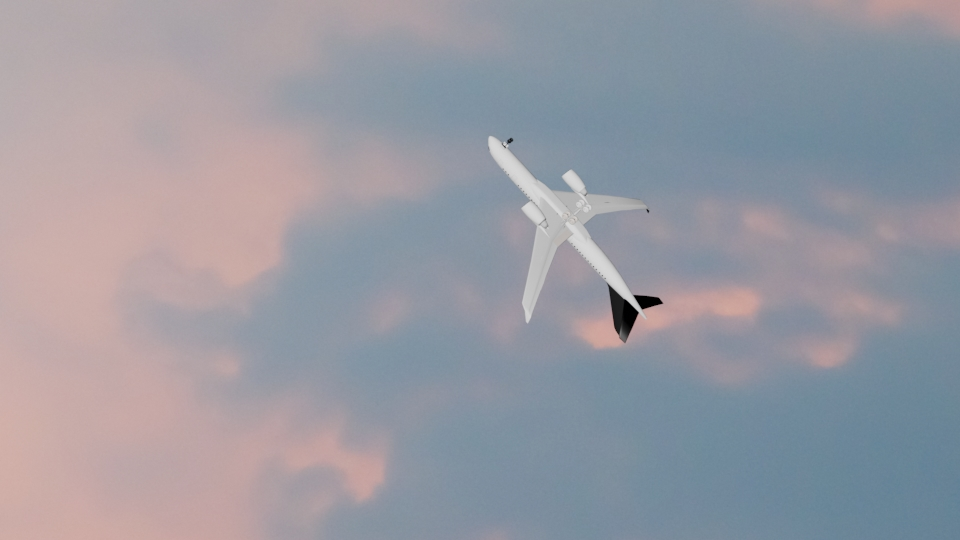plane: (485, 134, 664, 345)
